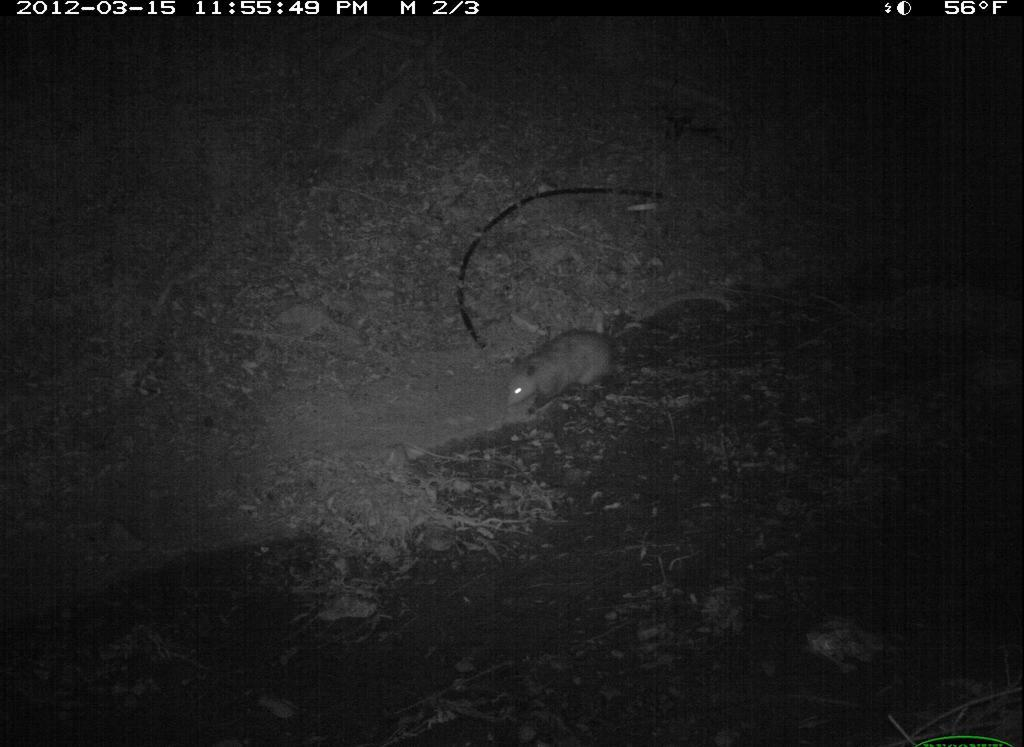opossum: (496, 318, 646, 414)
